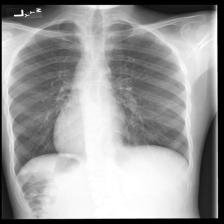normal: (8, 17, 192, 184)
